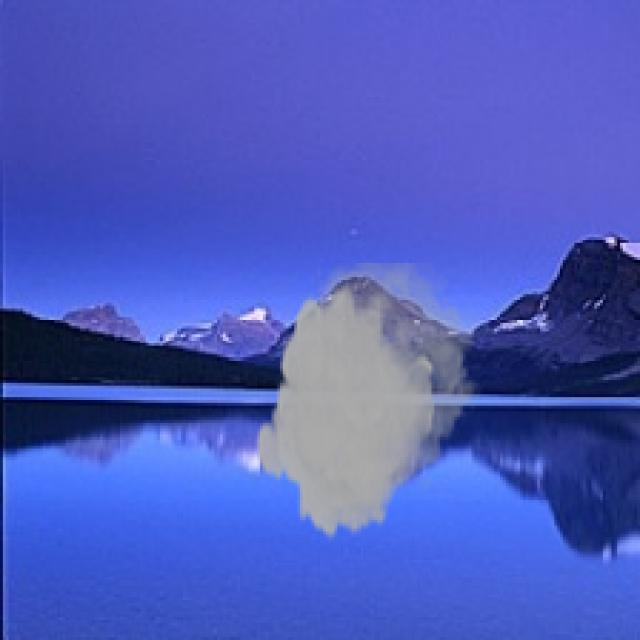smoke: (254, 263, 483, 543)
